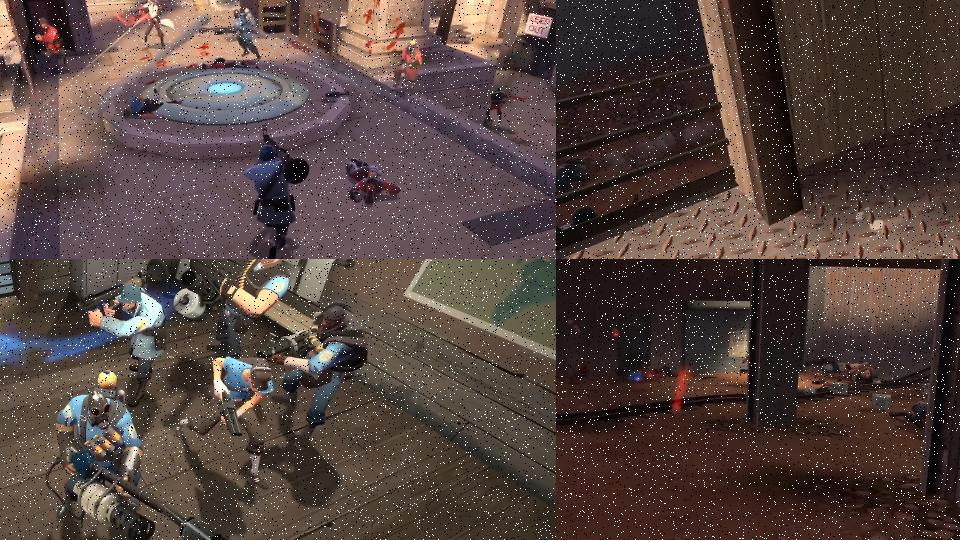Enemy: (43, 365, 241, 540), (257, 303, 372, 453), (73, 259, 173, 408), (174, 355, 276, 492), (172, 259, 292, 359), (249, 134, 310, 259), (200, 10, 268, 67), (339, 158, 404, 209), (133, 0, 174, 50), (123, 90, 181, 119), (392, 35, 421, 91), (35, 16, 67, 66), (841, 357, 886, 391), (491, 87, 506, 123)
